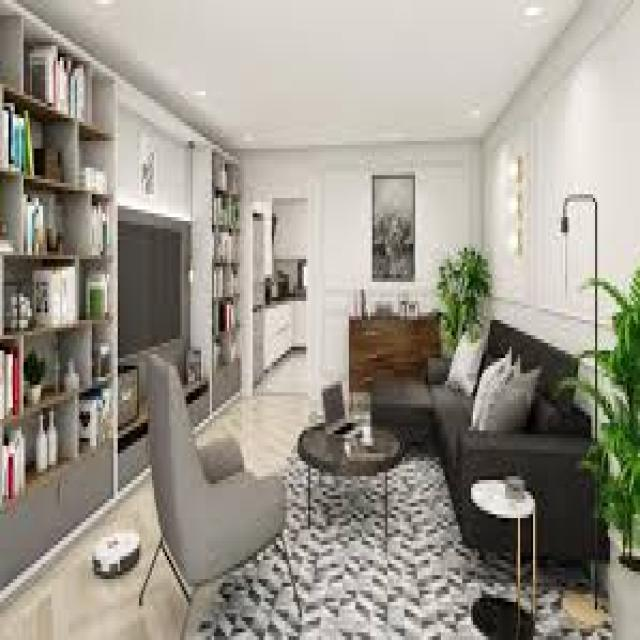Chair: (145, 348, 301, 633)
Sofa: (368, 312, 605, 559)
Table: (298, 407, 406, 553), (466, 468, 543, 640)
tv: (118, 219, 184, 350)
